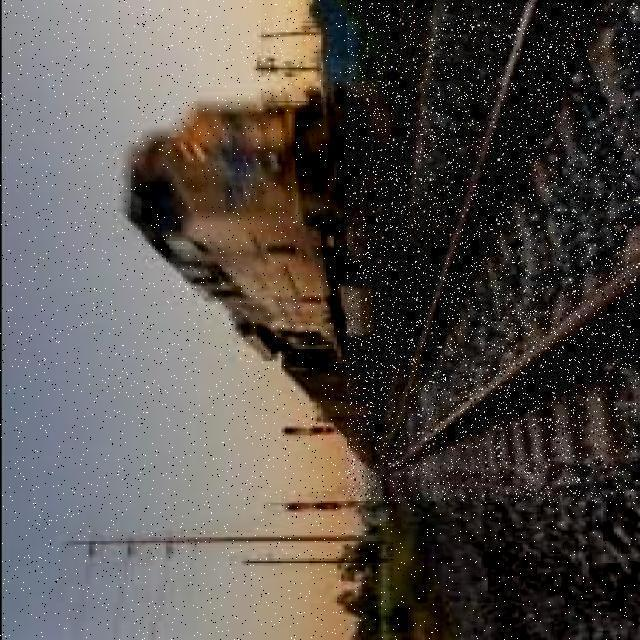rail: (349, 4, 638, 502)
